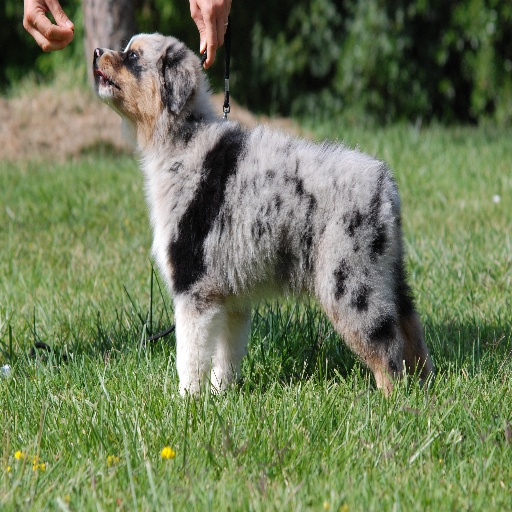hand: (188, 0, 231, 69), (19, 0, 72, 51)
